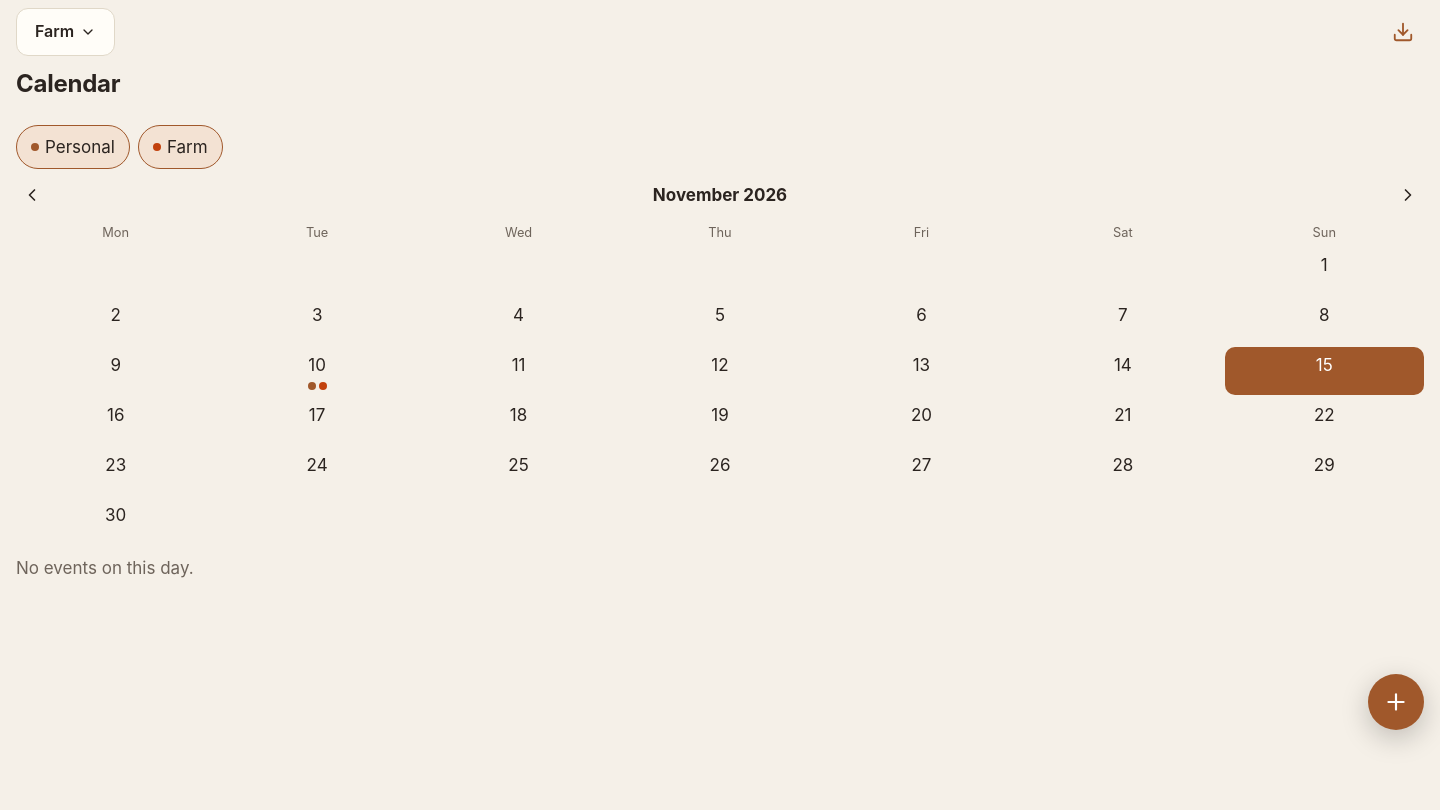
Test case: CalendarPage › a member can only edit events they are assigned to
The image size is (1440, 810).
Click the button named "2026-11-10". click: (317, 371)
box: [217, 347, 417, 395]
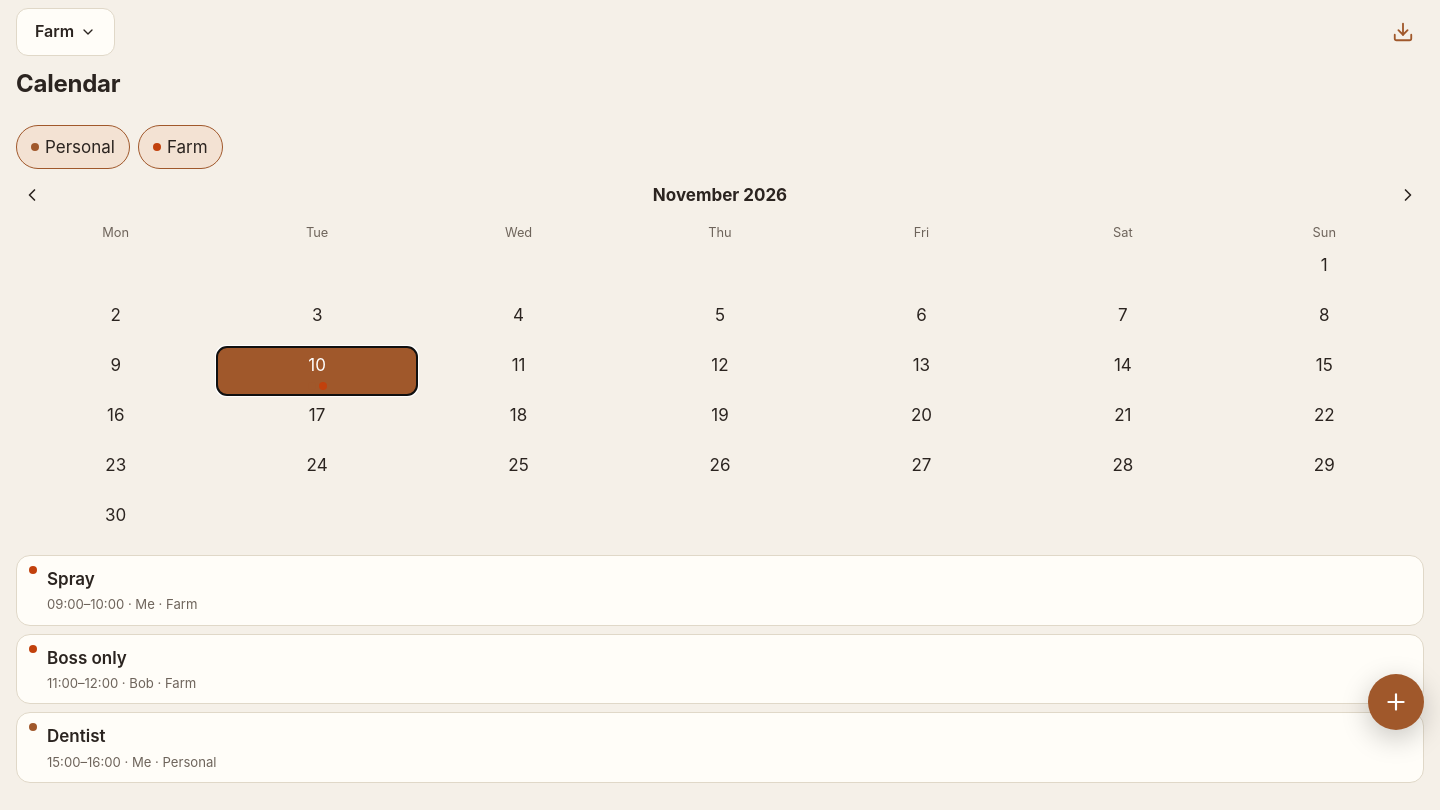
Click the text "Boss only". click: (87, 658)
box: [47, 648, 127, 668]
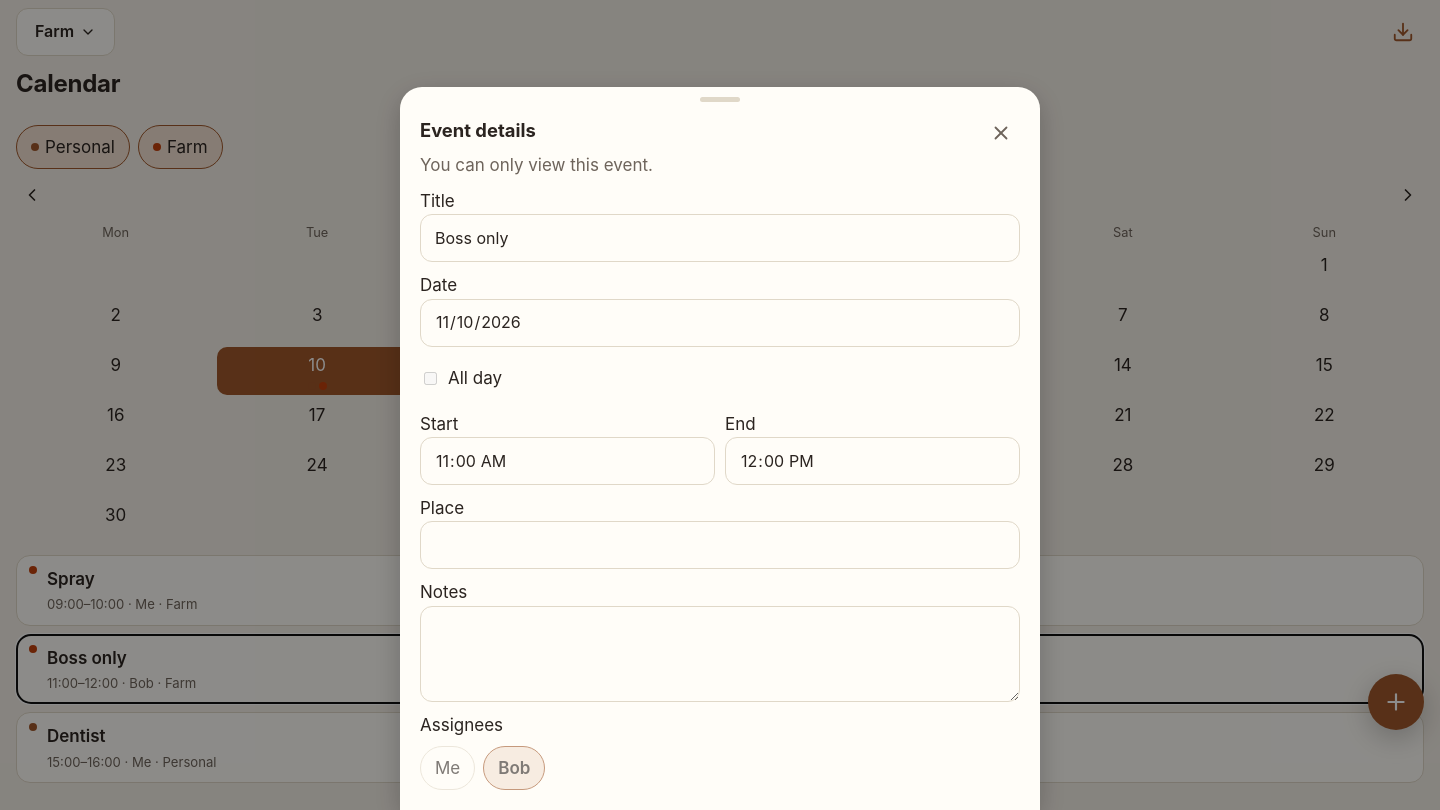
Expected: the field labelled "Title" is disabled, [420, 214, 1020, 262]
Click the button named "Close". click: (1001, 133)
box: [982, 114, 1020, 152]
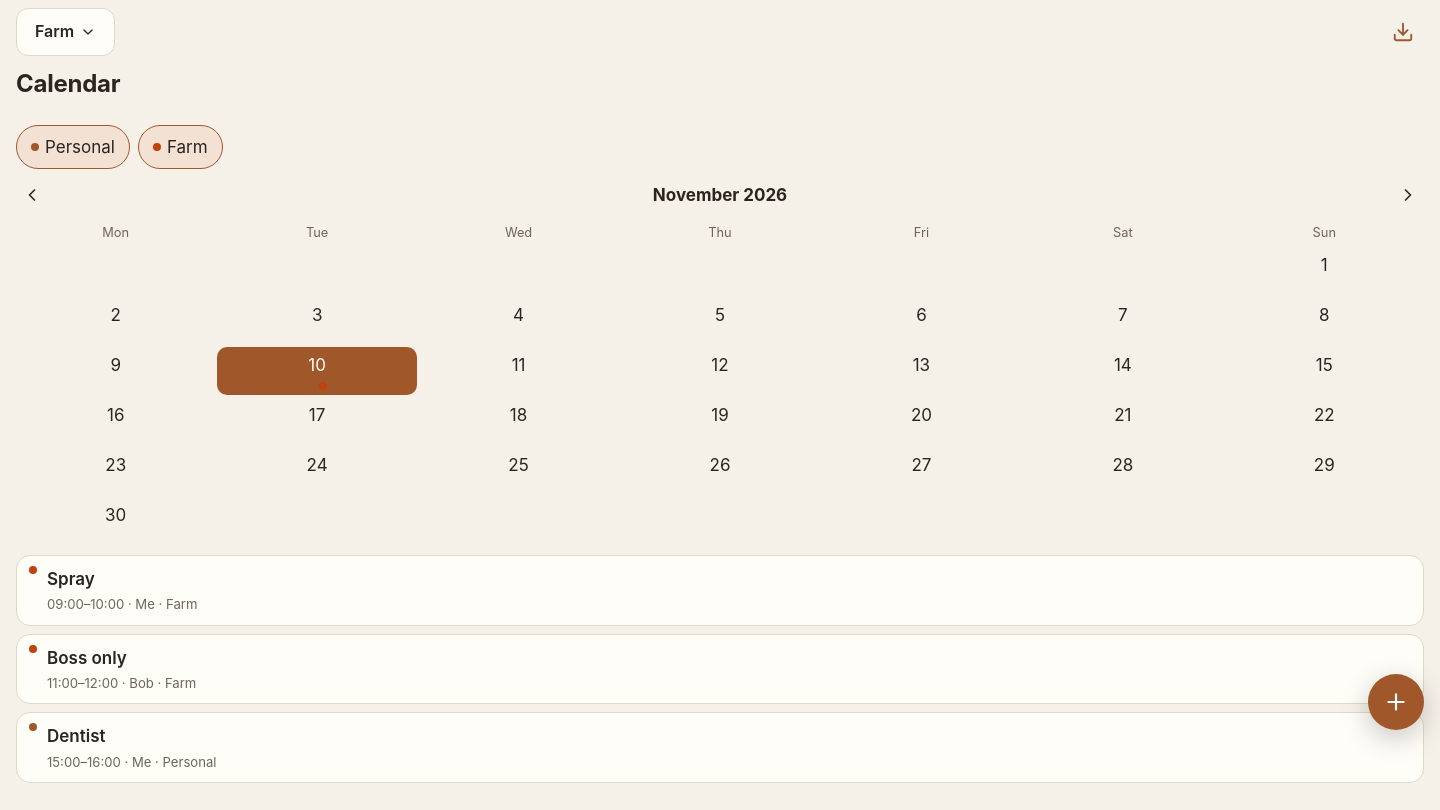
Click the text "Spray". click: (71, 579)
box: [47, 569, 95, 589]
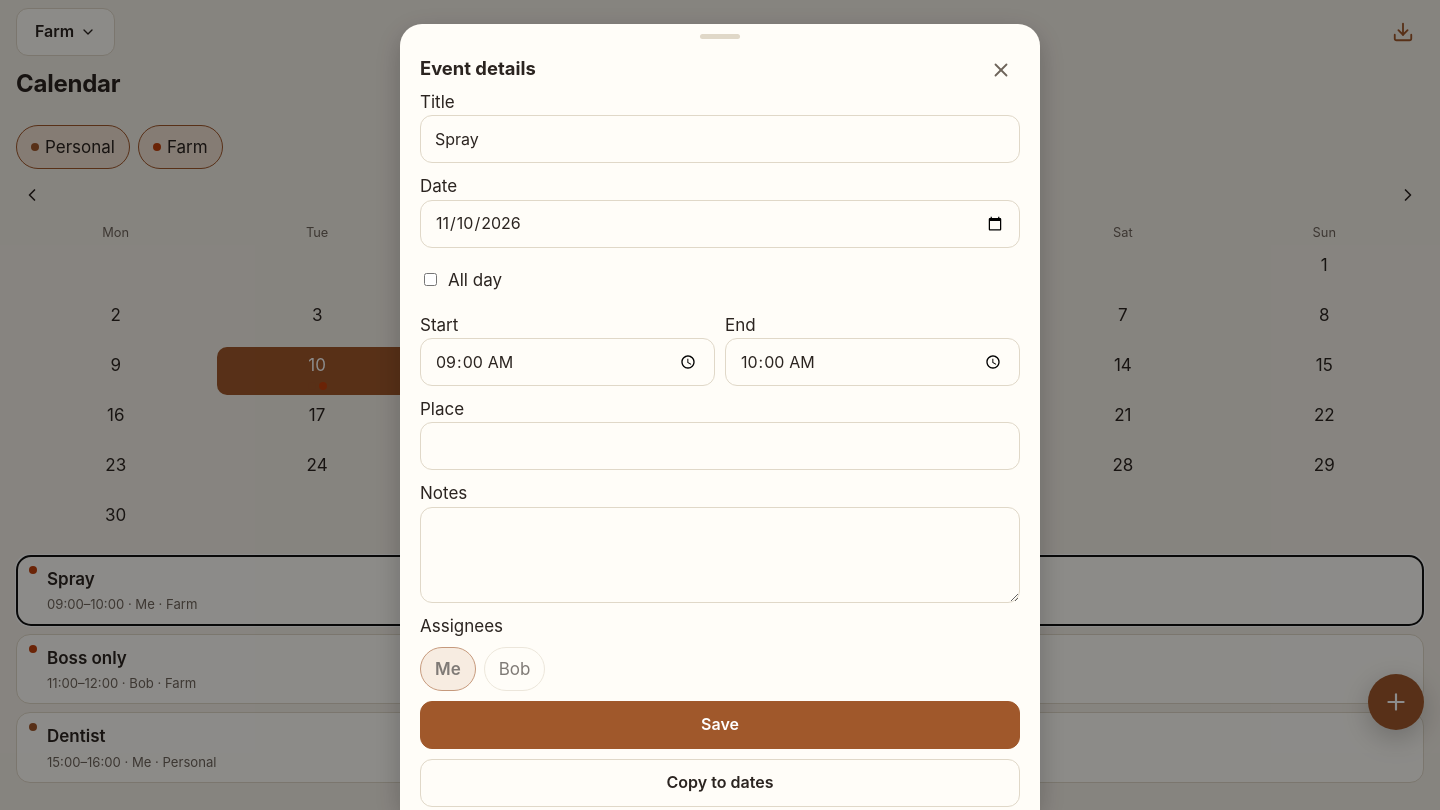
Expected: the field labelled "Title" is enabled, [420, 115, 1020, 163]
